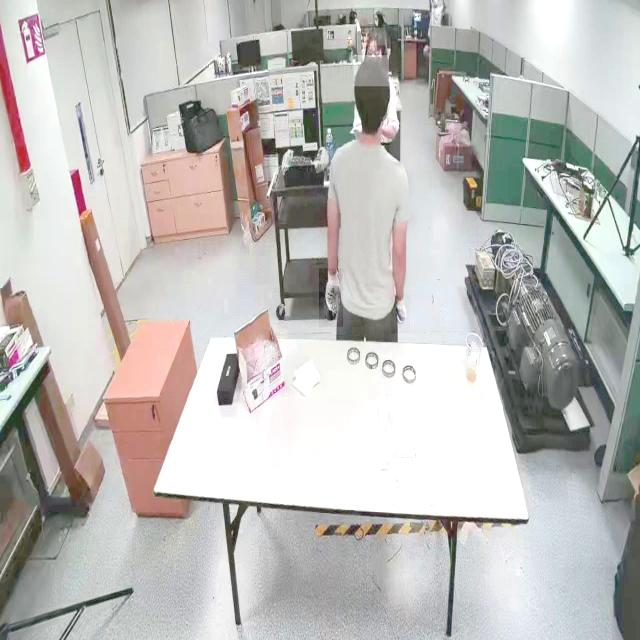hand_glove: (319, 268, 343, 328), (391, 295, 411, 334)
head_nohelmet: (354, 55, 389, 87), (366, 28, 386, 46), (374, 8, 382, 15), (349, 9, 357, 16)
person: (326, 50, 412, 340)
